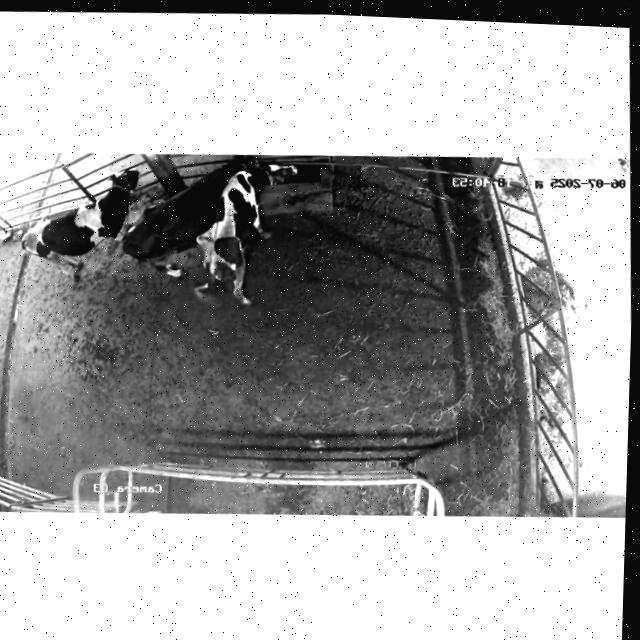stand: (9, 160, 149, 290)
